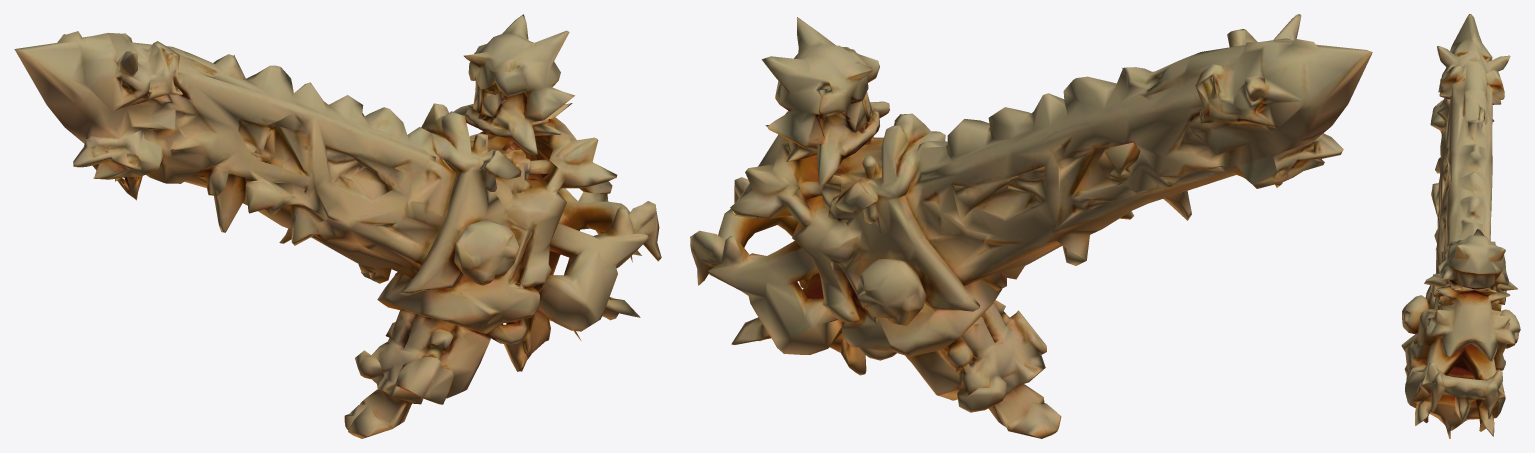
The model's file is sand_v.glb.
The picture shows the model from 3 angles, left to right: view 1: azimuth 30°, elevation 25°; view 2: azimuth 150°, elevation 25°; view 3: azimuth 270°, elevation 25°; orthographic projection. The views are drawn at different scales.
Visible parts, largest first — view 1: tripo_node_a46792fb-a626-4438-8d4a-6e307ed49f48; view 2: tripo_node_a46792fb-a626-4438-8d4a-6e307ed49f48; view 3: tripo_node_a46792fb-a626-4438-8d4a-6e307ed49f48.
Part boxes in pixels (<box>): tripo_node_a46792fb-a626-4438-8d4a-6e307ed49f48: <box>14,14,661,438</box>; tripo_node_a46792fb-a626-4438-8d4a-6e307ed49f48: <box>690,14,1372,438</box>; tripo_node_a46792fb-a626-4438-8d4a-6e307ed49f48: <box>1401,14,1520,438</box>.
Size of the model in its own units: 0.9808 by 0.6752 by 0.2613.
1 material, 1 textured.
